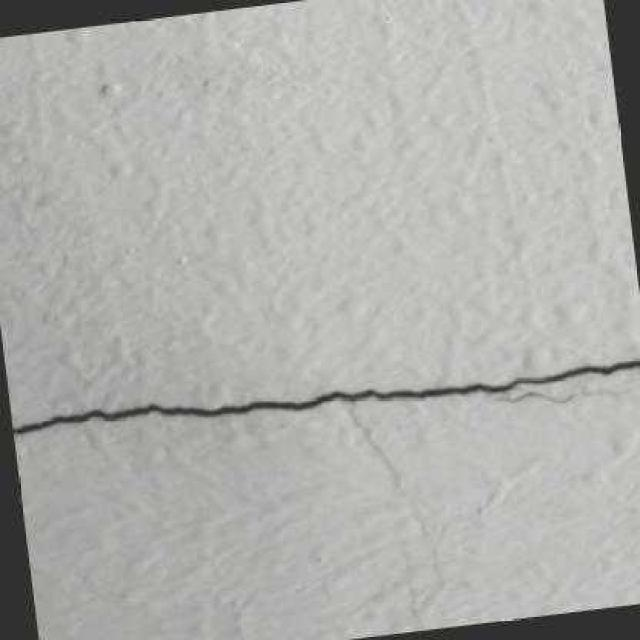D00: (11, 357, 640, 435)
